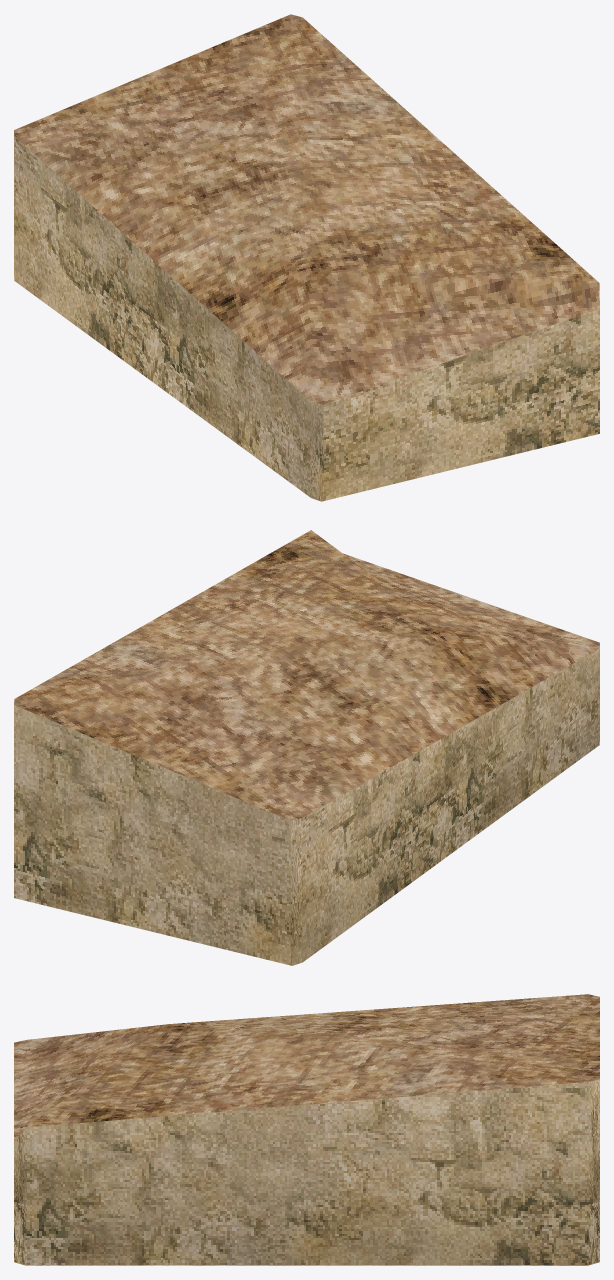
The model's file is stage-ruin-p2-493.glb.
The picture shows the model from 3 angles, top to bottom: view 1: azimuth 30°, elevation 25°; view 2: azimuth 150°, elevation 25°; view 3: azimuth 270°, elevation 25°; orthographic projection. The views are drawn at different scales.
Bounding box in the file's own units: 4.25 × 2.81 × 7.9.
2 materials, 2 textured.
